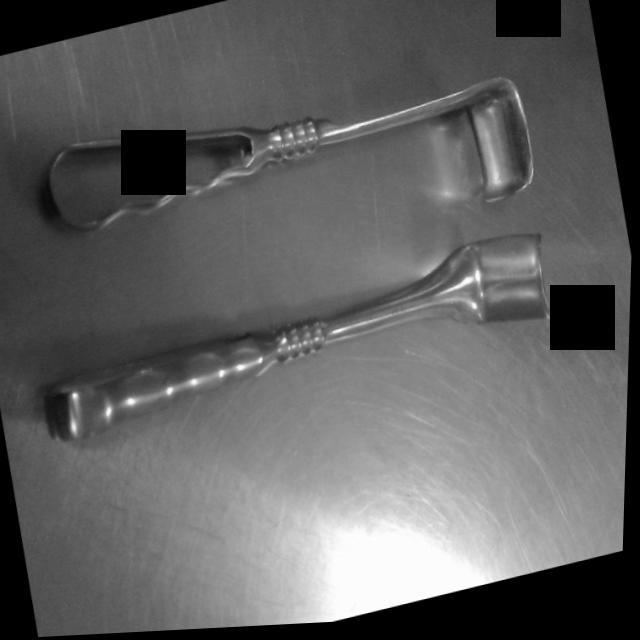Morris Retractor: (30, 218, 582, 522), (30, 33, 548, 317)
